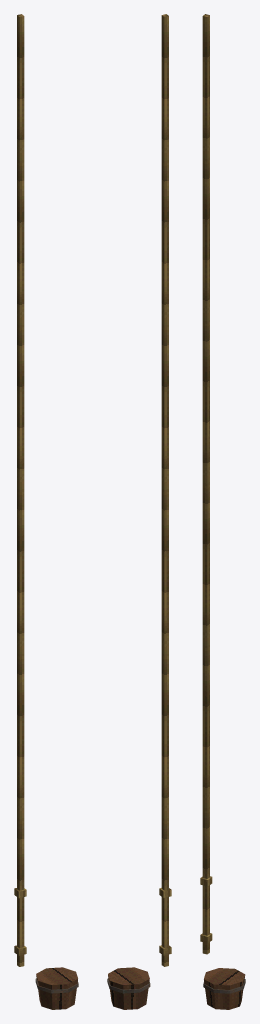
The model's file is cuerda_pozo.obj.
The picture shows the model from 3 angles, left to right: view 1: azimuth 30°, elevation 25°; view 2: azimuth 210°, elevation 25°; view 3: azimuth 330°, elevation 25°; orthographic projection.
Visible parts, largest first — view 1: cuerda_pozo; view 2: cuerda_pozo; view 3: cuerda_pozo.
Boxes of the visible parts, bbox=[...] form: cuerda_pozo: bbox=[14, 14, 78, 1009]; cuerda_pozo: bbox=[107, 14, 171, 1009]; cuerda_pozo: bbox=[200, 14, 245, 1009].
Bounding box in the file's own units: 0.645 × 12 × 0.495.
3 materials, 3 textured.
